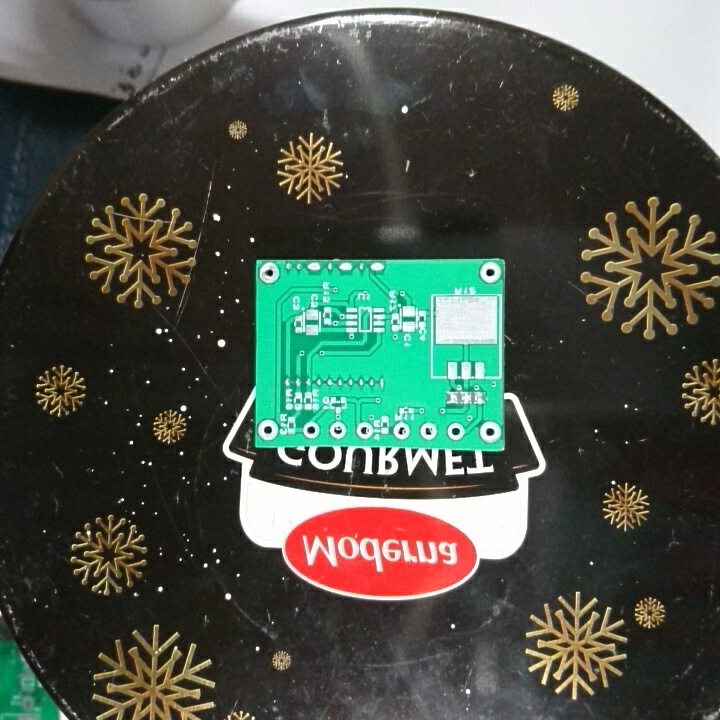F: (477, 260, 503, 286), (257, 260, 281, 286), (477, 418, 500, 445), (256, 416, 279, 442), (444, 420, 467, 443), (417, 420, 440, 443), (391, 420, 413, 441), (353, 419, 374, 440), (326, 420, 348, 440), (300, 419, 322, 438)
P: (303, 260, 325, 275), (367, 261, 388, 275), (337, 261, 355, 275)
